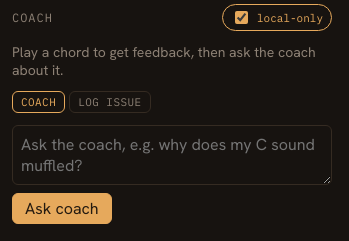
Test: CoachColumn — log issue mode (field-testing debug logger) › switching to the log-issue sub-tab hides the coach ask box and shows the log-issue form
What coordinates should you click on to do the following:
click the tab with test id "coach-tab-log"
I would click on:
 (110, 102)
Its box is [69, 91, 151, 113].
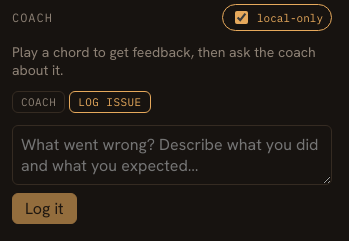
Check: the text box with placeholder "What went wrong" is shown, box [12, 125, 332, 185]
Check: the button with test id "debug-log-submit" is shown, box [12, 193, 76, 224]
